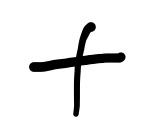plus: (29, 22, 126, 116)
